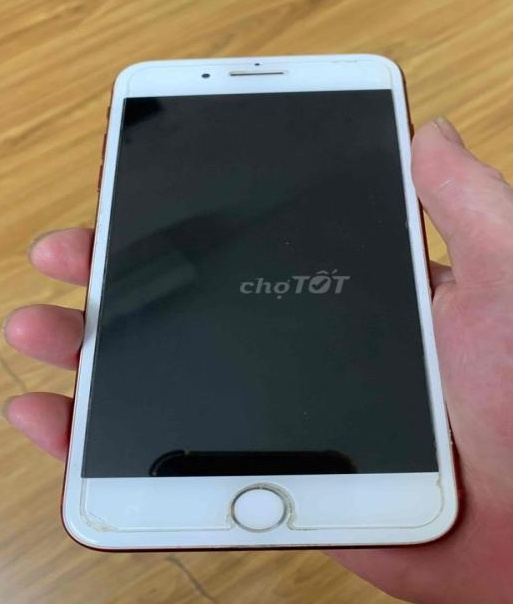scratch: (230, 490, 296, 529), (78, 506, 116, 538), (432, 459, 445, 525), (321, 55, 381, 66)
